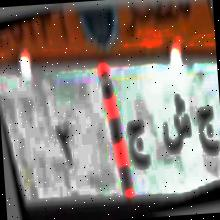2: (53, 118, 78, 178)
jeem: (127, 107, 158, 176), (194, 98, 220, 164)
sheen: (157, 88, 196, 166)
